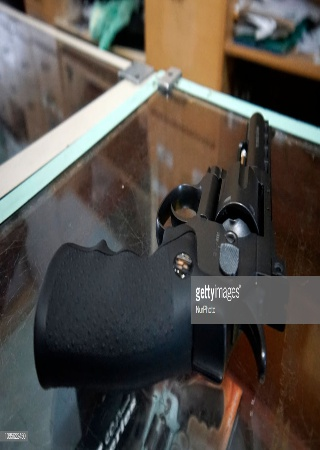handgun: (30, 109, 276, 390)
